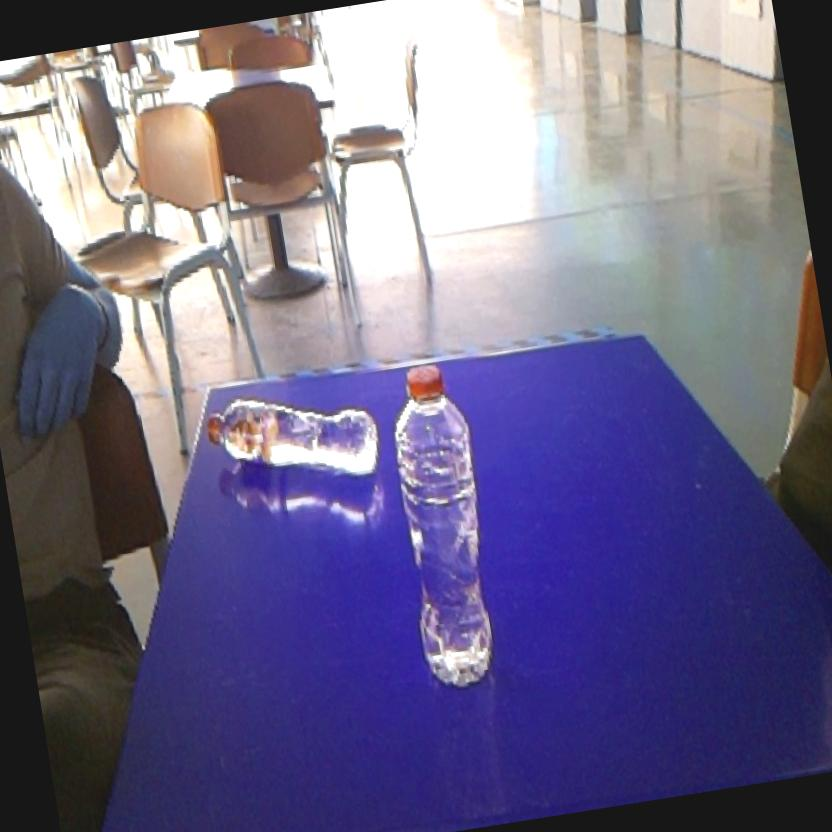no_label: (372, 350, 518, 700)
